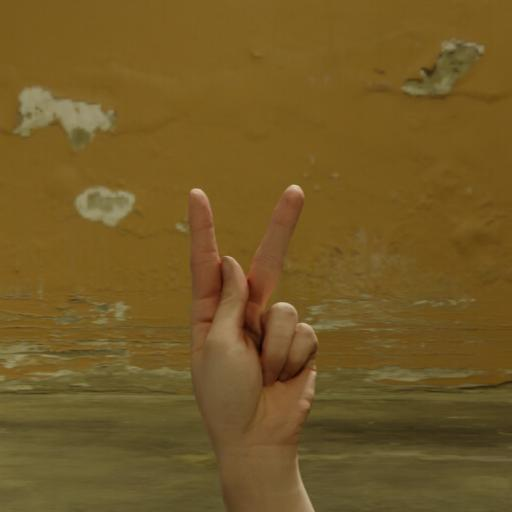K: (164, 173, 332, 480)
